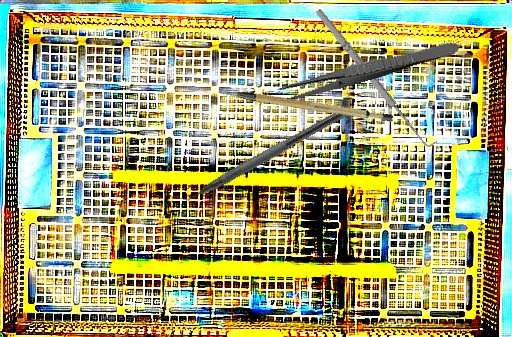Chopper: (166, 93, 352, 214)
Dressing Forceps: (276, 34, 461, 106)
Hook Surgical: (313, 3, 438, 152)
Scalpel Handle: (216, 61, 395, 146)
